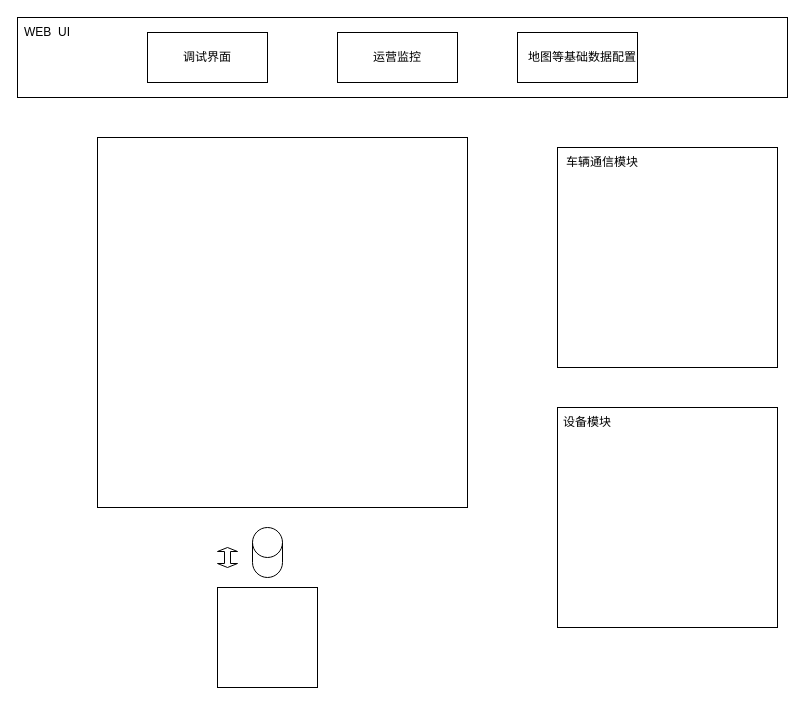
This 805x705 diagram has some shape labels left out. The centre of each missing label's shape, as x and y in pixels:
db: the point at 267,552
KPI: the point at 267,637
逻辑模块: the point at 282,322
